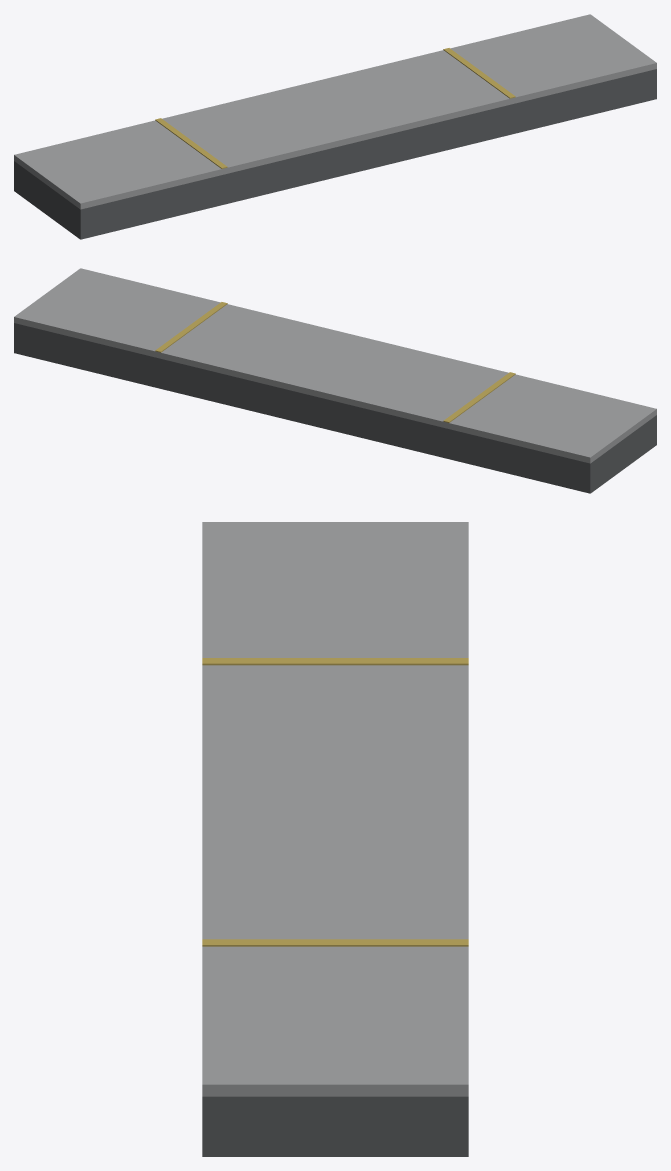
File: floorDuct_steel.glb
3 views of the same model, one above another, from view 1: azimuth 30°, elevation 25°; view 2: azimuth 150°, elevation 25°; view 3: azimuth 270°, elevation 25° (orthographic). The views are drawn at different scales.
Visible parts, largest first — view 1: floorDuct_steel; view 2: floorDuct_steel; view 3: floorDuct_steel.
Boxes of the visible parts, x1,y1,x2,y2 form: floorDuct_steel: (14,14,656,239); floorDuct_steel: (14,268,656,493); floorDuct_steel: (202,522,468,1156).
Size of the model in its own units: 2 by 0.123 by 0.4.
